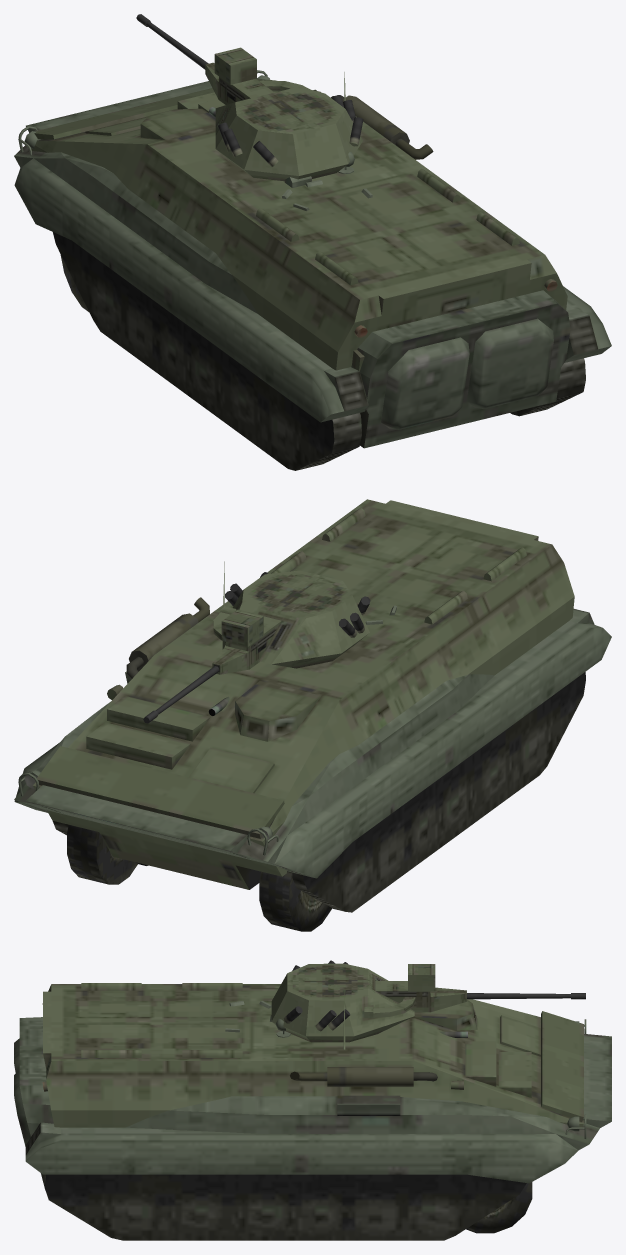
File: army_apc.glb
The picture shows the model from 3 angles, top to bottom: view 1: azimuth 30°, elevation 25°; view 2: azimuth 150°, elevation 25°; view 3: azimuth 270°, elevation 25°; orthographic projection. The views are drawn at different scales.
Parts seen in each view (by area): view 1: BMP-1, EE-11_AA, turret, gun, turret_001; view 2: EE-11_AA, BMP-1, turret, gun; view 3: BMP-1, EE-11_AA, turret, gun.
Part boxes in pixels (x1,y1,x2,y2): BMP-1: (14,70,611,470); EE-11_AA: (28,78,567,371); turret: (215,86,363,181); gun: (136,14,310,104); turret_001: (282,151,372,210); EE-11_AA: (33,499,574,931); BMP-1: (14,609,611,912); turret: (220,570,370,668); gun: (143,609,281,723); BMP-1: (14,1017,611,1240); EE-11_AA: (42,983,584,1233); turret: (271,960,414,1042); gun: (373,964,585,1017).
Size of the model in its own units: 0.5329 by 0.4856 by 1.15.
Materials: 7 (7 with a texture image).
